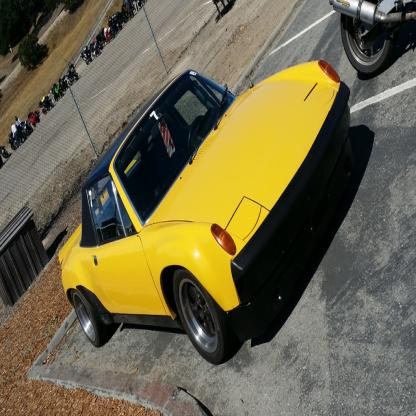Car: (58, 60, 351, 367)
